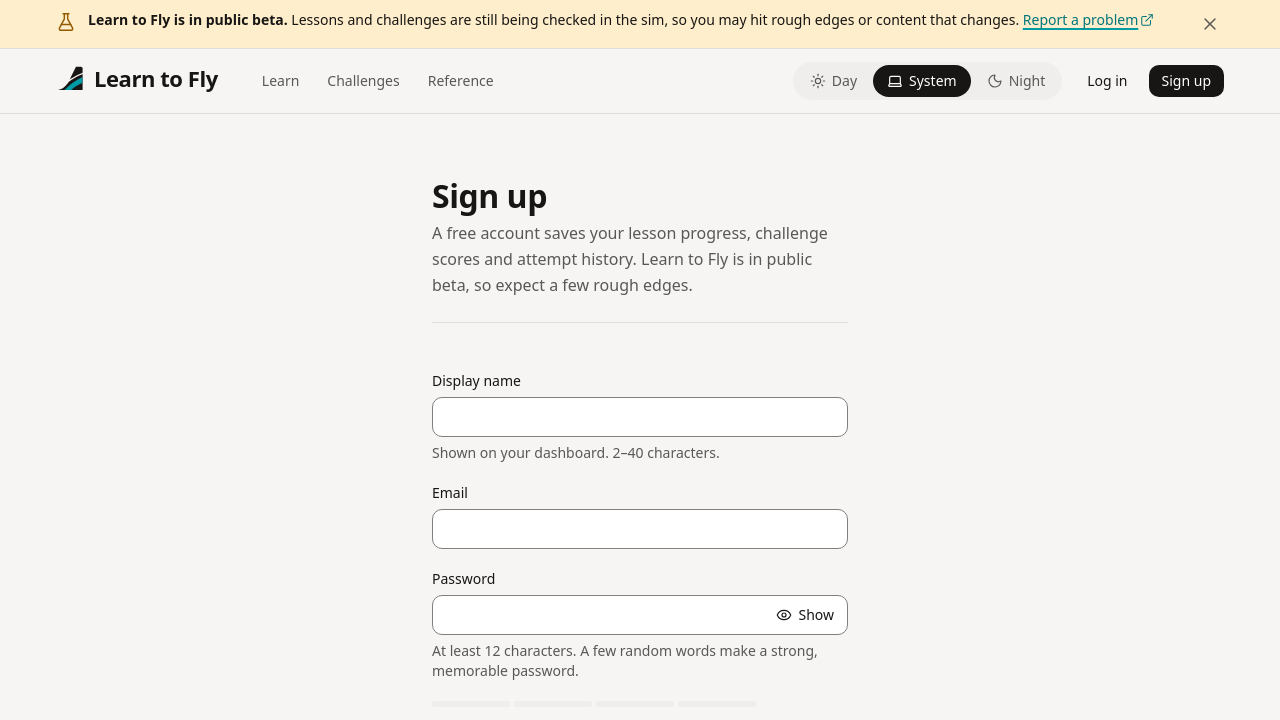
Sign up › creates the account and returns to the page the user came from
Type "Sam Simmer" into the field labelled "Display name". click: point(640, 417)
box: [432,397,848,437]
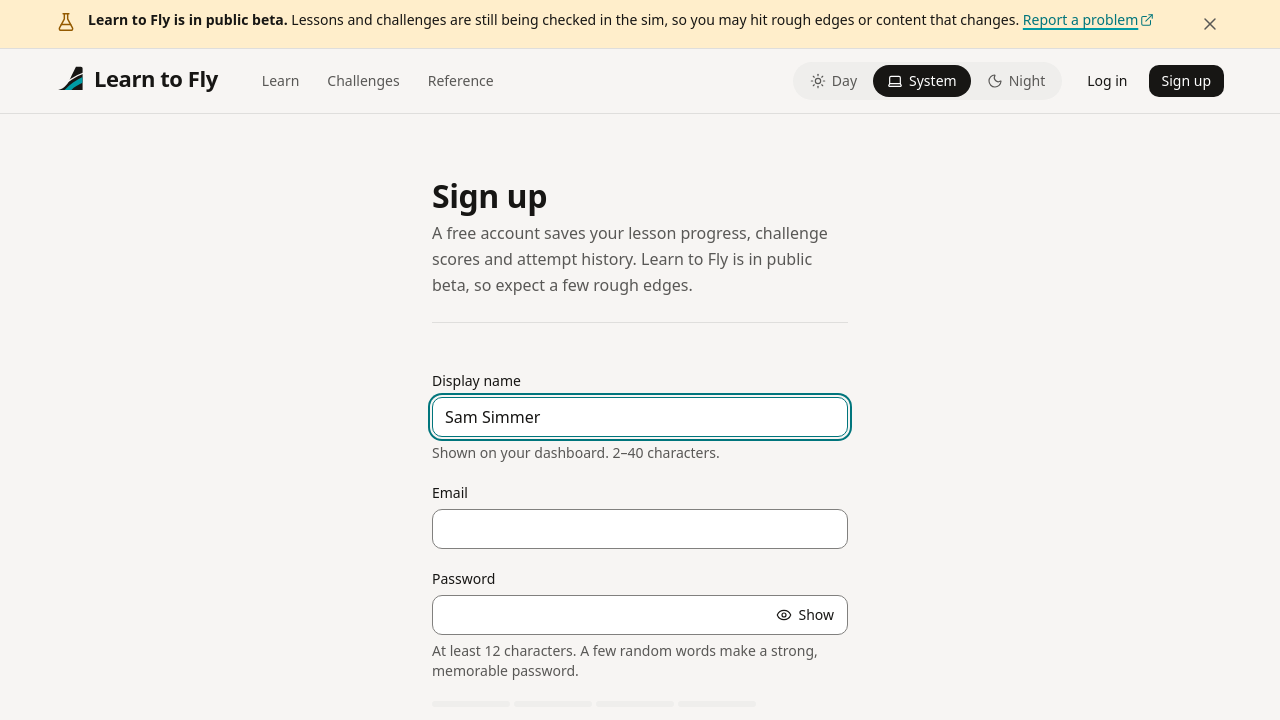
Type "Sam@Example.com" into the field labelled "Email". click: point(640, 529)
box: [432,509,848,549]
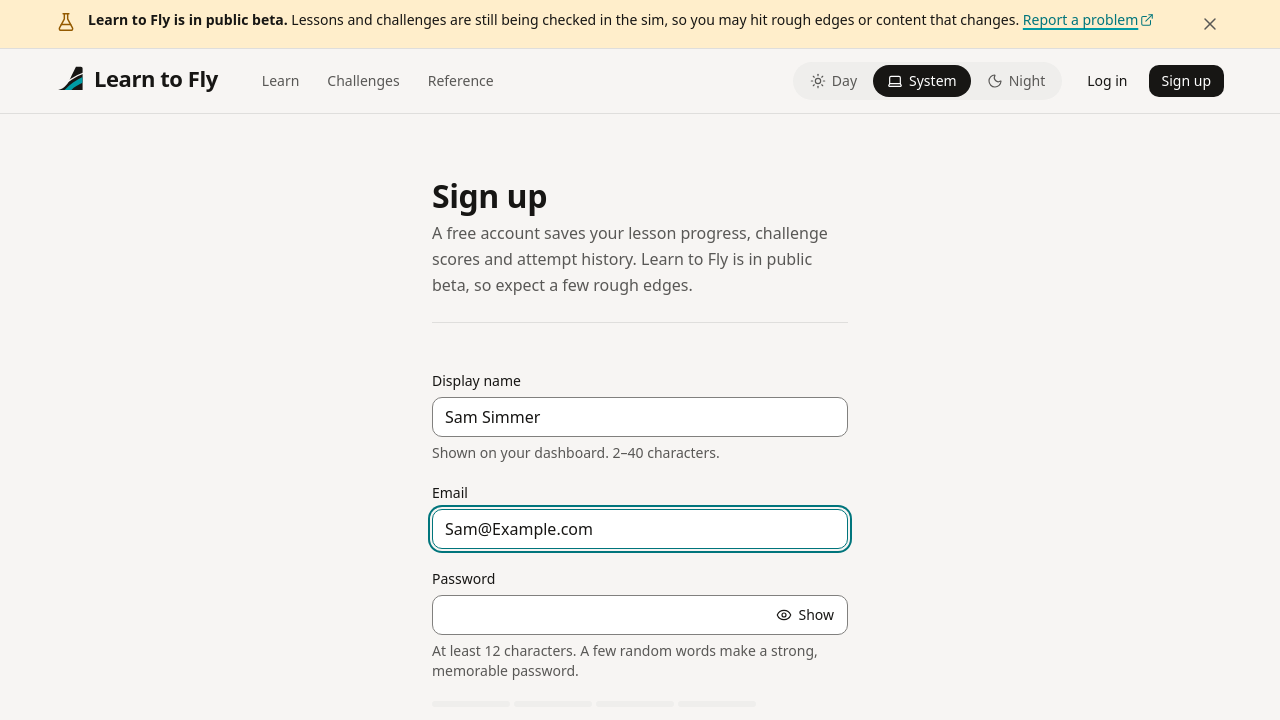
Type "correct horse battery staple" into the password field labelled "Password". click: point(640, 615)
box: [432,595,848,635]
(page scrolled)
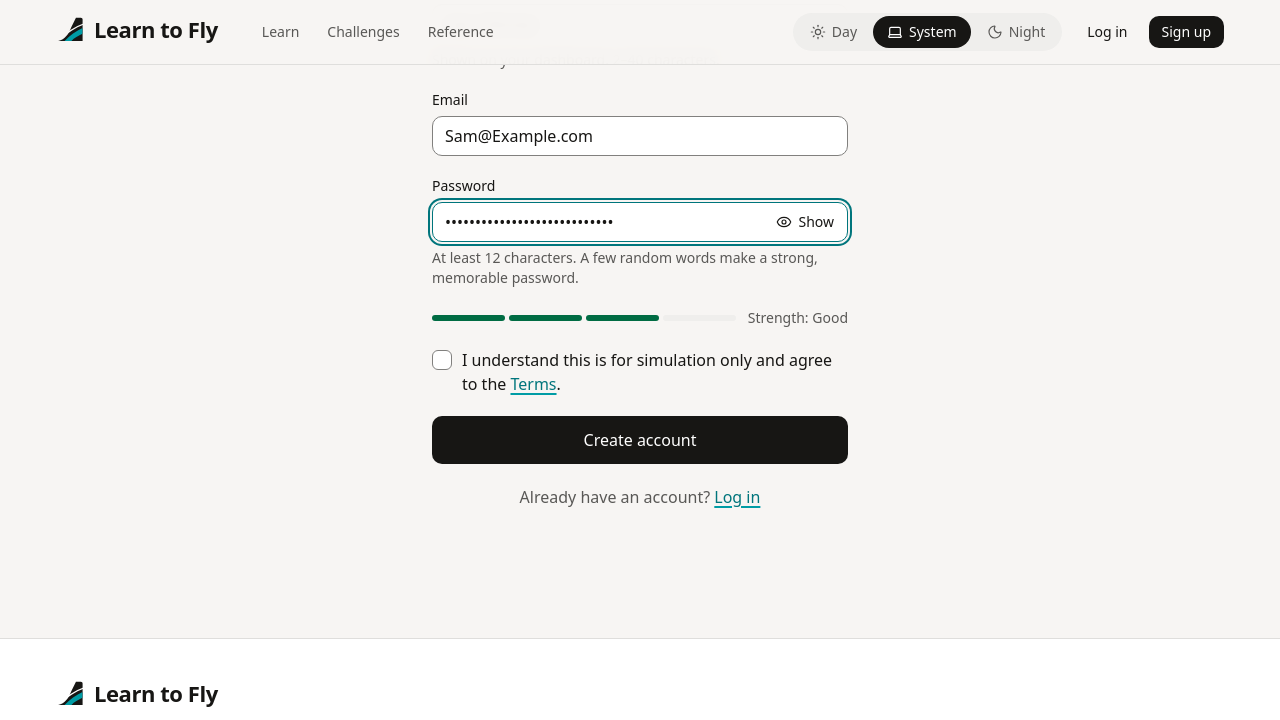
Click the checkbox labelled "simulation only". click: point(442, 360)
box: [432,350,452,370]
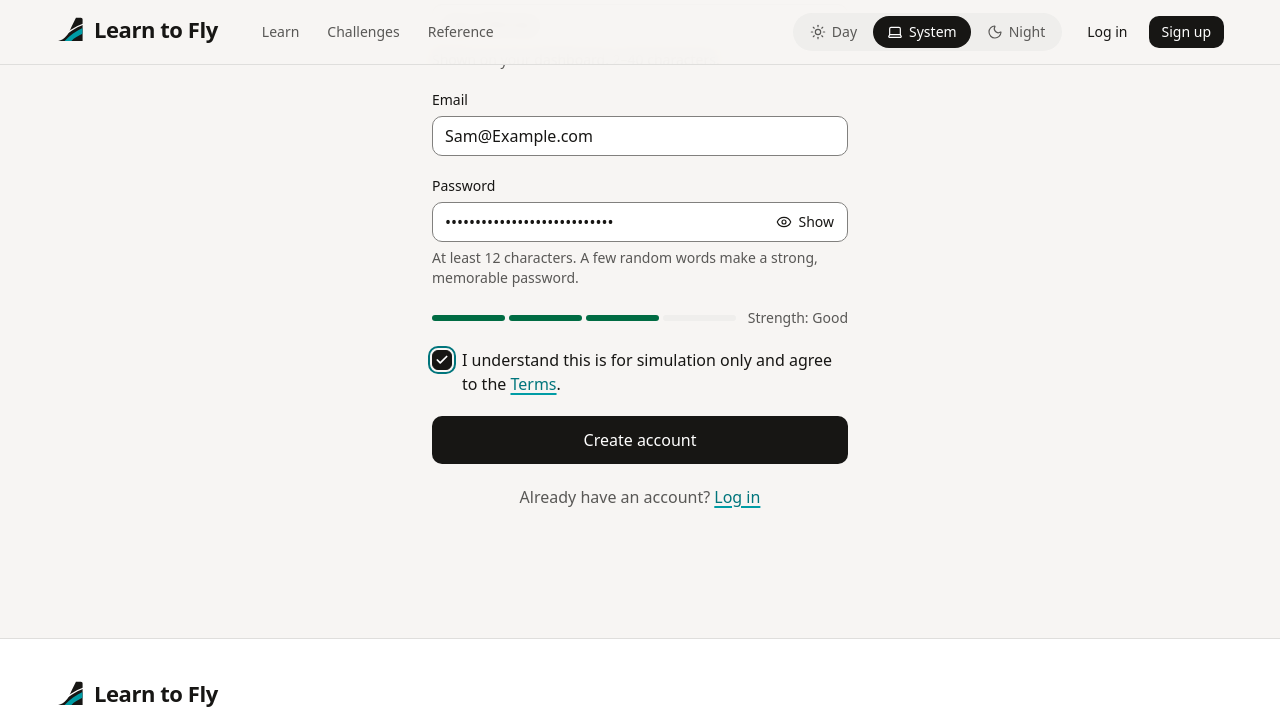
Click the button "Create account". click: point(640, 440)
box: [432,416,848,464]
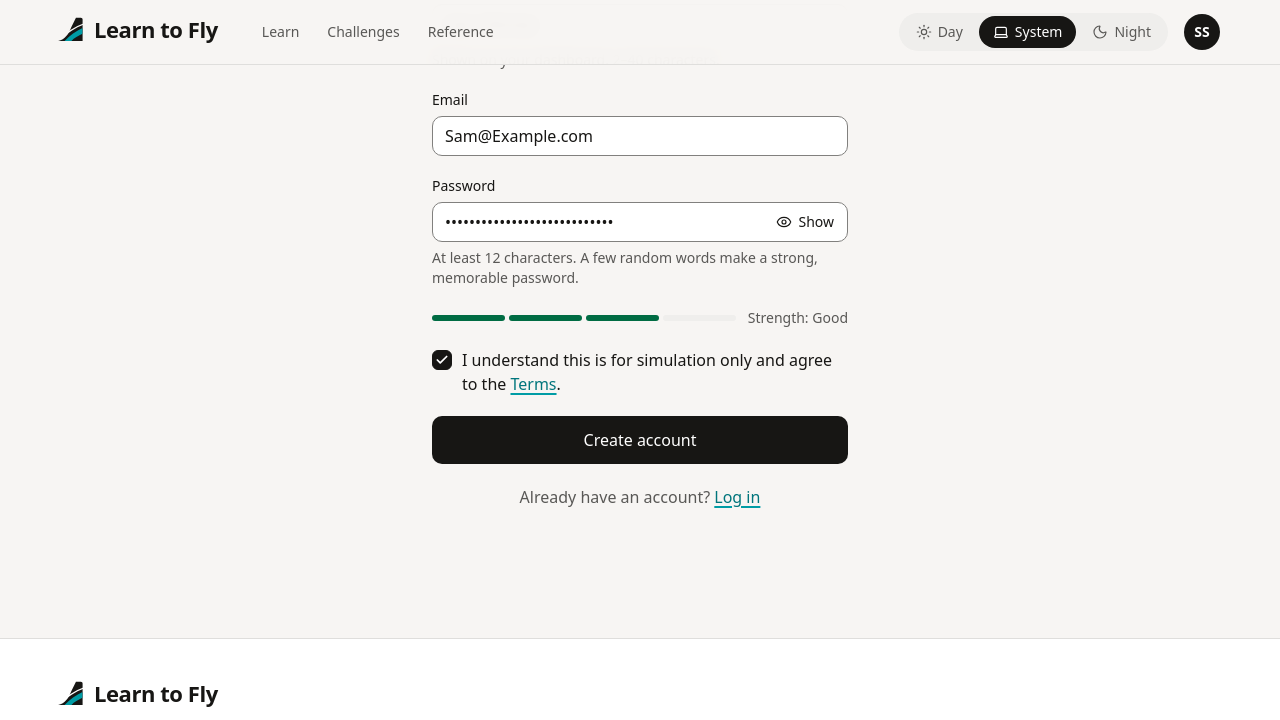
Check: the button with aria-label "Account menu for Sam Simmer" is shown, box [1180,10,1224,54]
